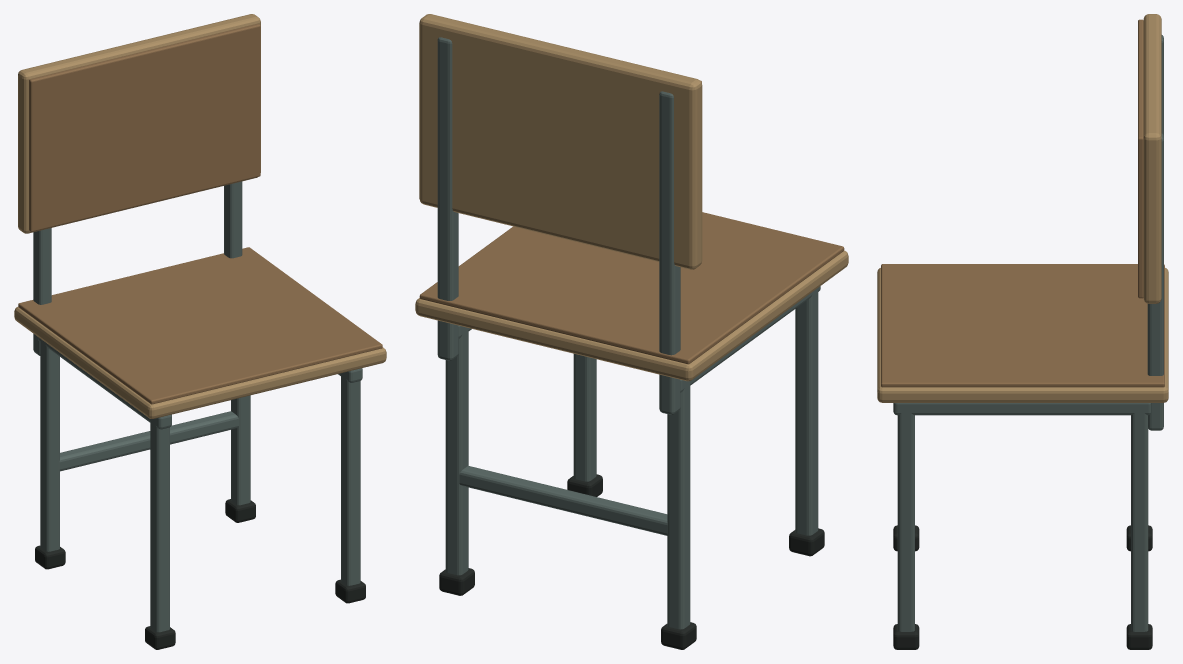
File: classroom-chair.fbx
The picture shows the model from 3 angles, left to right: view 1: azimuth 30°, elevation 25°; view 2: azimuth 150°, elevation 25°; view 3: azimuth 270°, elevation 25°; orthographic projection. The views are drawn at different scales.
Parts seen in each view (by area): view 1: Backrest face, Seat face, Seat plywood edge, Backrest plywood edge, Chair steel leg, Chair steel leg.002, Chair steel leg.001, Lower back stretcher, Chair steel leg.003, Backrest upright, Backrest upright.001, Seat rail (+4 smaller); view 2: Backrest plywood edge, Seat face, Seat plywood edge, Chair steel leg, Backrest upright.001, Chair steel leg.001, Backrest upright, Chair steel leg.003, Lower back stretcher, Chair steel leg.002, Chair rubber foot, Chair rubber foot.003 (+2 smaller); view 3: Seat face, Seat plywood edge, Backrest plywood edge, Chair steel leg.002, Chair steel leg.003, Seat rail.001, Backrest upright.001, Backrest face, Chair rubber foot.002, Chair rubber foot.003.
Part boxes in pixels (x1=…): Backrest face: x1=29, y1=23, x2=260, y2=231; Seat face: x1=18, y1=247, x2=382, y2=404; Seat plywood edge: x1=14, y1=307, x2=386, y2=418; Backrest plywood edge: x1=18, y1=14, x2=260, y2=233; Chair steel leg: x1=150, y1=421, x2=169, y2=632; Chair steel leg.002: x1=341, y1=375, x2=360, y2=585; Chair steel leg.001: x1=40, y1=341, x2=59, y2=551; Lower back stretcher: x1=59, y1=411, x2=238, y2=471; Chair steel leg.003: x1=231, y1=395, x2=250, y2=505; Backrest upright: x1=33, y1=228, x2=51, y2=355; Backrest upright.001: x1=224, y1=181, x2=242, y2=258; Seat rail: x1=38, y1=337, x2=171, y2=429; Backrest plywood edge: x1=419, y1=14, x2=702, y2=269; Seat face: x1=419, y1=212, x2=844, y2=364; Seat plywood edge: x1=415, y1=250, x2=848, y2=381; Chair steel leg: x1=795, y1=290, x2=818, y2=535; Backrest upright.001: x1=437, y1=37, x2=458, y2=360; Chair steel leg.001: x1=667, y1=384, x2=690, y2=629; Backrest upright: x1=659, y1=91, x2=680, y2=414; Chair steel leg.003: x1=445, y1=330, x2=468, y2=575; Lower back stretcher: x1=459, y1=466, x2=667, y2=535; Chair steel leg.002: x1=573, y1=354, x2=596, y2=481; Chair rubber foot: x1=789, y1=528, x2=824, y2=556; Chair rubber foot.003: x1=439, y1=568, x2=474, y2=595; Seat face: x1=881, y1=264, x2=1164, y2=387; Seat plywood edge: x1=877, y1=268, x2=1168, y2=402; Backrest plywood edge: x1=1143, y1=14, x2=1161, y2=303; Chair steel leg.002: x1=897, y1=412, x2=914, y2=631; Chair steel leg.003: x1=1131, y1=412, x2=1148, y2=631; Seat rail.001: x1=893, y1=403, x2=1150, y2=415; Backrest upright.001: x1=1147, y1=133, x2=1163, y2=430; Backrest face: x1=1138, y1=19, x2=1143, y2=298; Chair rubber foot.002: x1=893, y1=624, x2=919, y2=649; Chair rubber foot.003: x1=1126, y1=624, x2=1152, y2=649.
Size of the model in its own units: 0.45 by 0.89 by 0.45.
